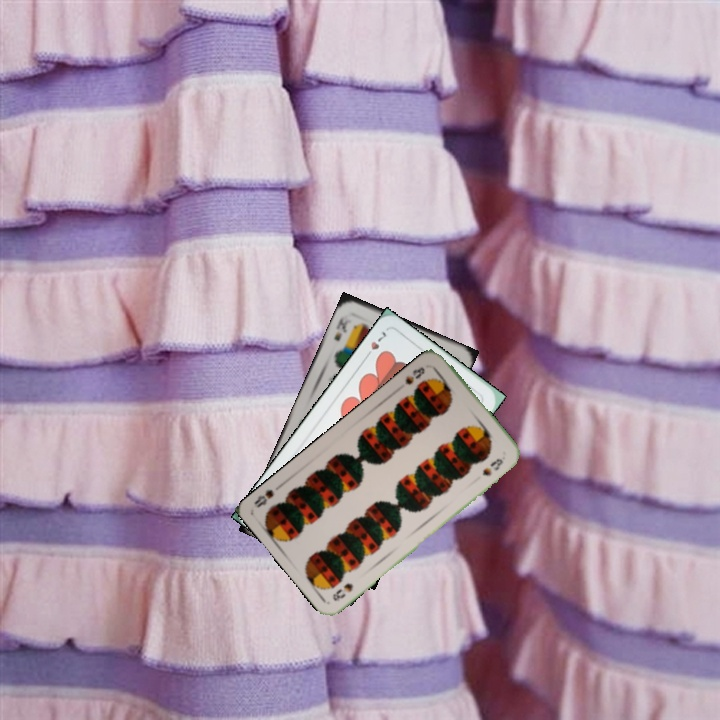EK: (330, 310, 354, 344)
H7: (361, 327, 389, 361)
S8: (328, 579, 356, 604), (401, 363, 427, 387)
